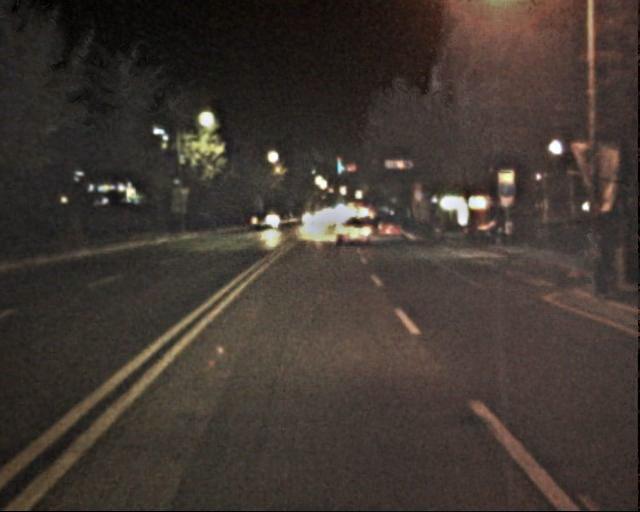person: (575, 222, 609, 304)
